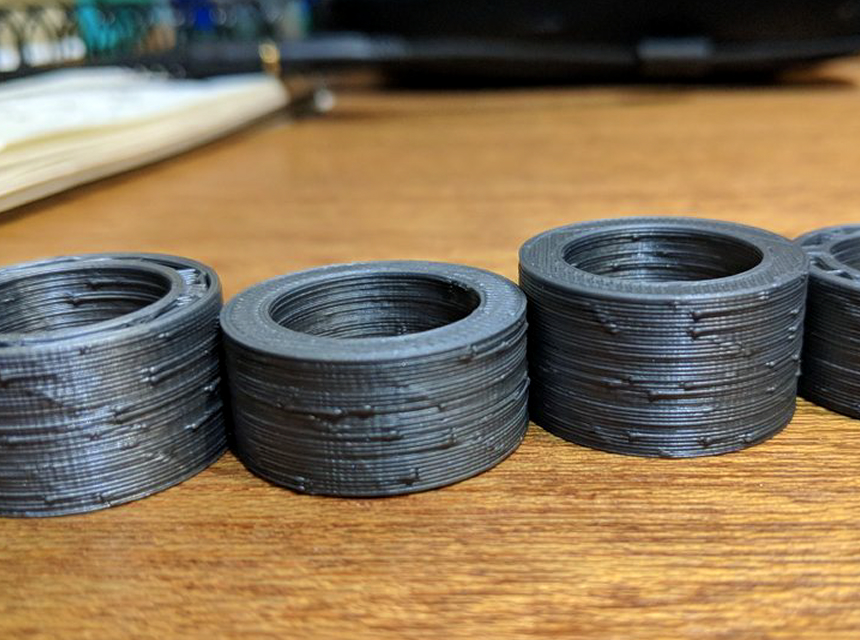blob: (273, 376, 397, 436), (96, 402, 154, 451), (353, 283, 408, 323), (128, 358, 173, 396), (1, 428, 49, 457), (171, 412, 218, 440), (52, 279, 91, 312), (596, 370, 631, 402), (596, 310, 626, 347), (188, 374, 221, 406), (686, 307, 709, 349), (578, 415, 612, 443), (380, 455, 421, 477), (785, 297, 804, 343), (673, 372, 706, 398), (40, 486, 77, 509), (684, 425, 718, 449), (641, 378, 669, 407), (601, 255, 632, 280), (451, 349, 481, 373), (759, 350, 783, 380), (790, 351, 808, 391), (156, 329, 180, 352), (621, 232, 654, 248), (735, 425, 754, 450), (756, 382, 779, 397)
